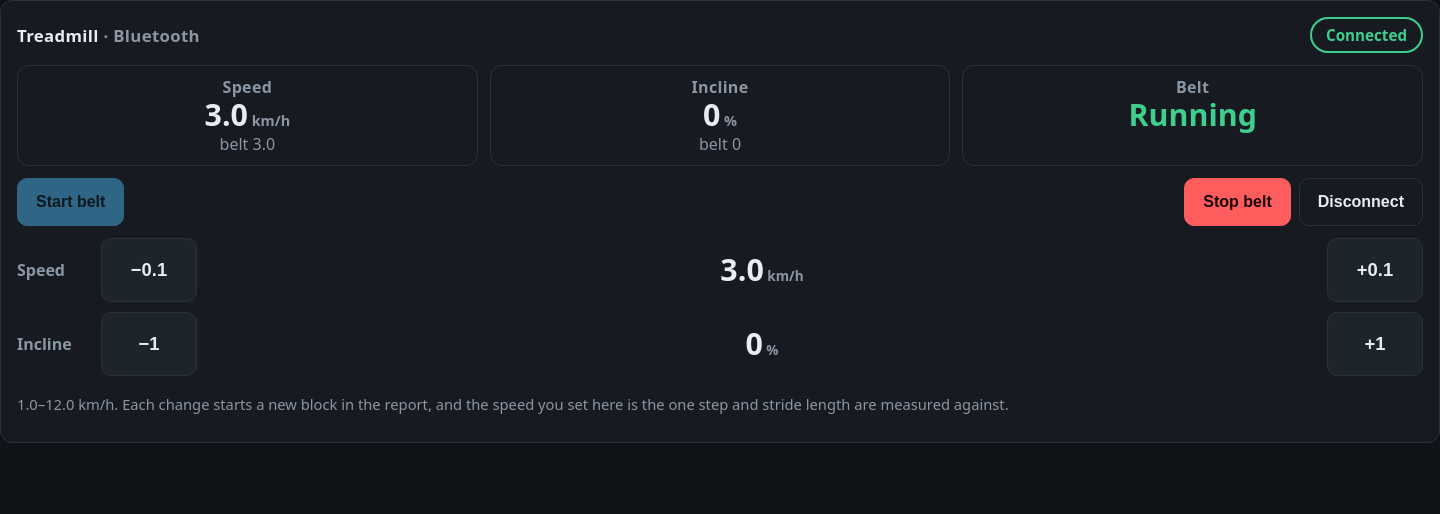
Test: surfaces a refused command instead of silently doing nothing
Click the button named "Faster": [1375, 270] box [1327,238,1423,302]
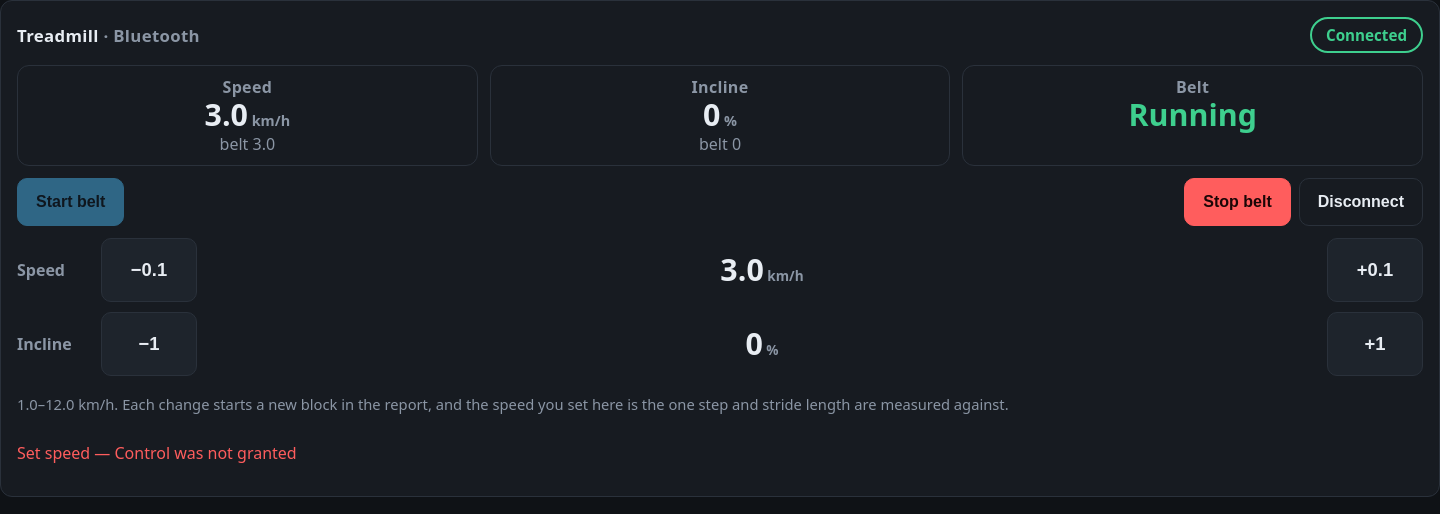
expect the message shows "Control was not granted": met, box [17,442,297,464]
